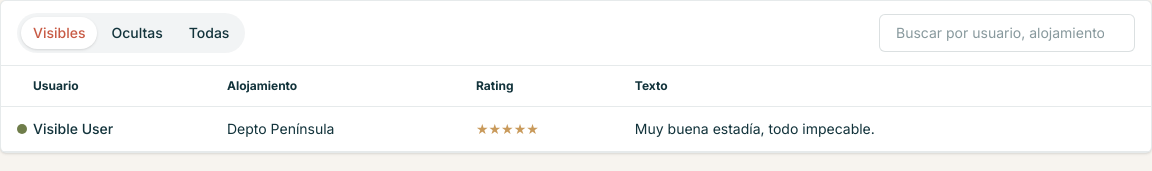
Test: ResenasTable — filtros y búsqueda › la pestaña Ocultas filtra por reseñas ocultas
Click the button "Ocultas" at (137, 33), box top-left (100, 17), bottom-right (175, 49)
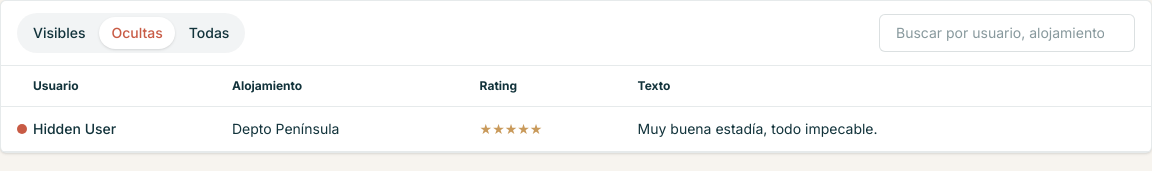
Expected: the text "Hidden User" is shown, top-left (33, 106), bottom-right (232, 152)
Expected: the text "Visible User" is gone
